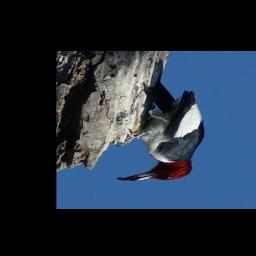Woodpecker: (118, 58, 206, 182)
